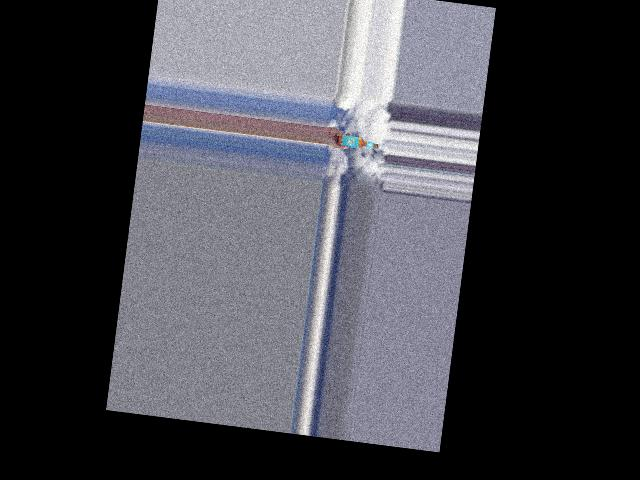beer: (336, 135, 379, 151)
